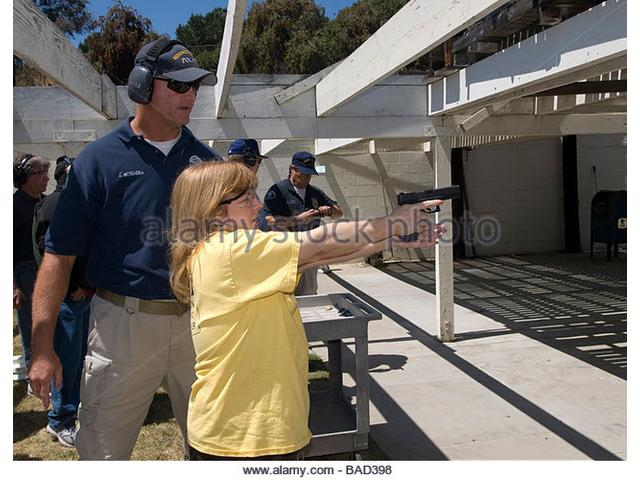pistol: (394, 182, 460, 250)
